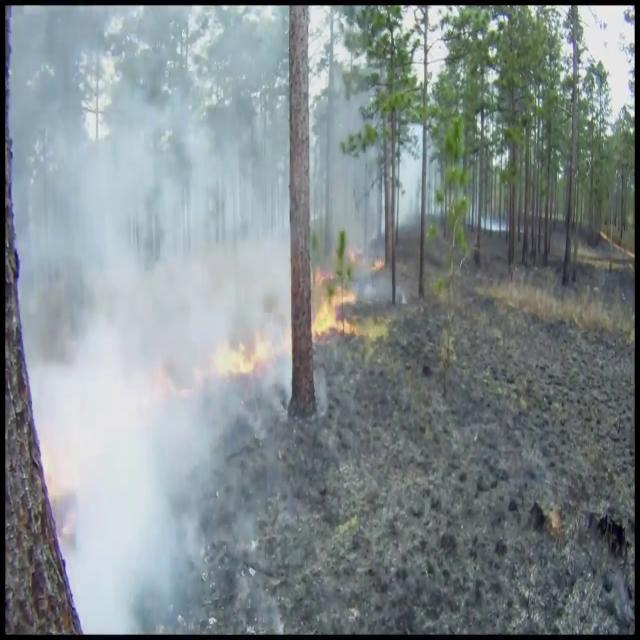Fire: (215, 326, 274, 386), (312, 282, 358, 341)
Smoke: (5, 7, 286, 625)
